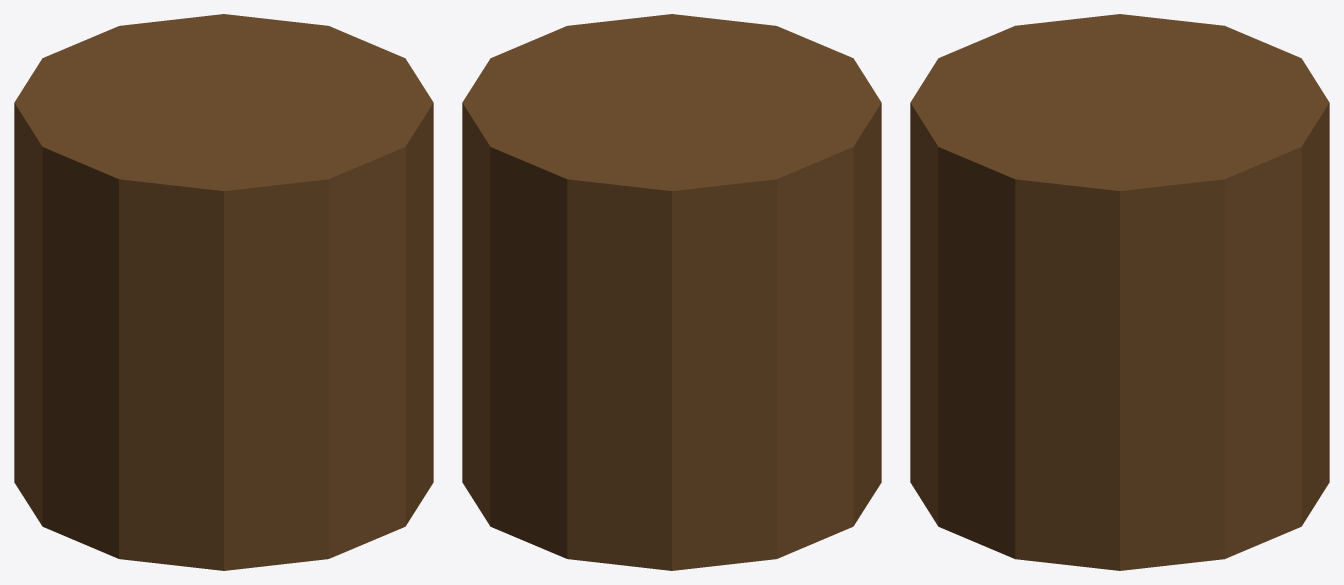
The model's file is proto_2.glb.
3 renders of one model, left to right at view 1: azimuth 30°, elevation 25°; view 2: azimuth 150°, elevation 25°; view 3: azimuth 270°, elevation 25°, orthographic.
Parts seen in each view (by area): view 1: Group_0; view 2: Group_0; view 3: Group_0.
Boxes of the visible parts, x1,y1,x2,y2 form: Group_0: (14,14,433,570); Group_0: (462,14,881,570); Group_0: (910,14,1329,570).
Bounding box in the file's own units: 1 × 1 × 1.
Materials: 1 (1 with a texture image).
